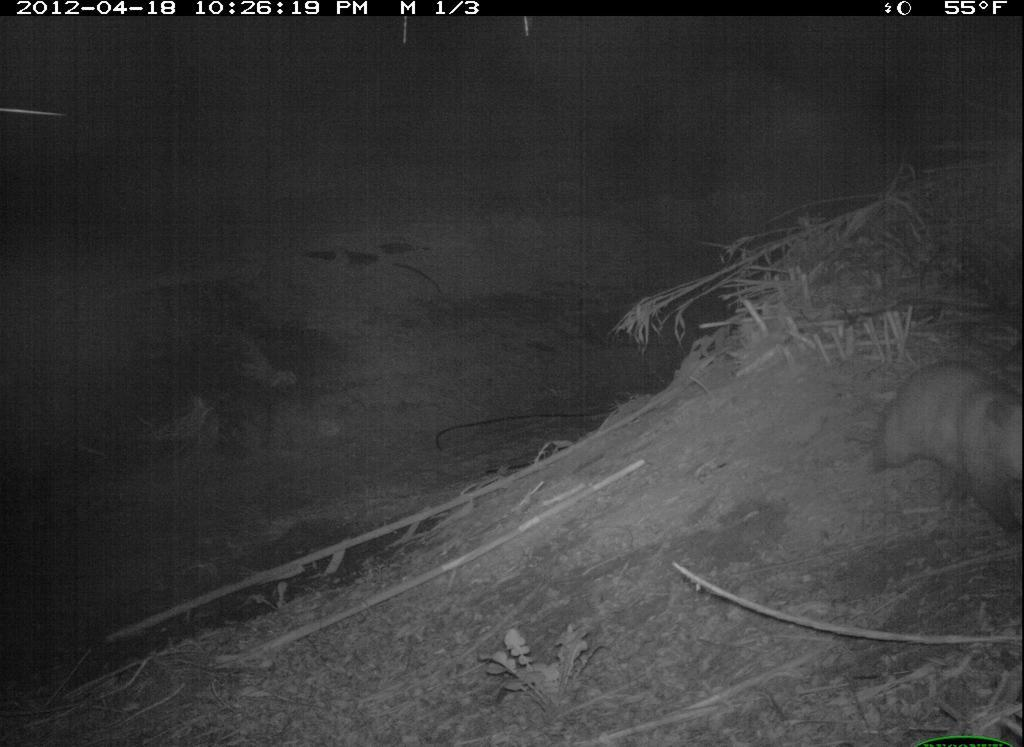opossum: (866, 345, 1023, 550)
